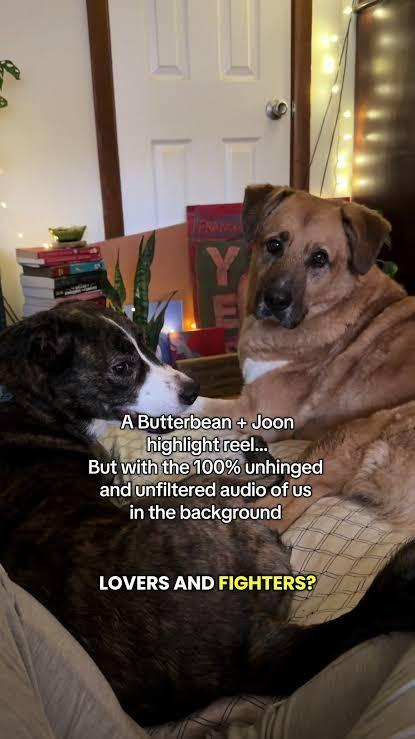adult_dog: (0, 297, 415, 730), (191, 185, 415, 526)
